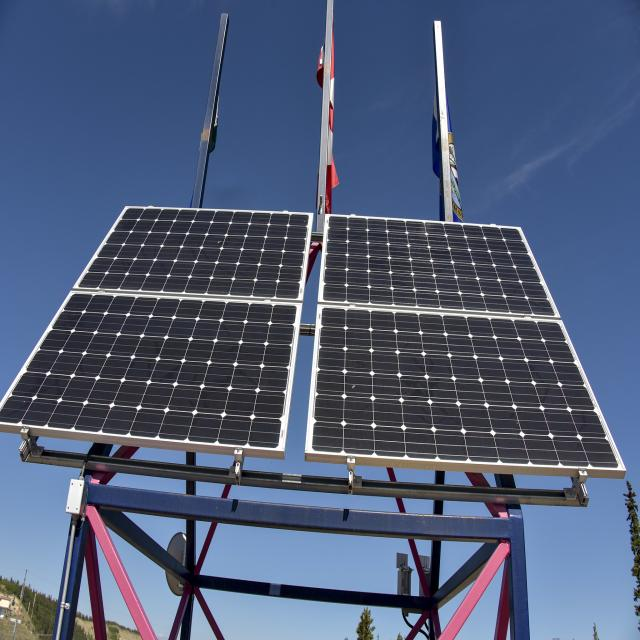clean-solar-panel: (305, 215, 625, 478), (0, 208, 311, 459)
